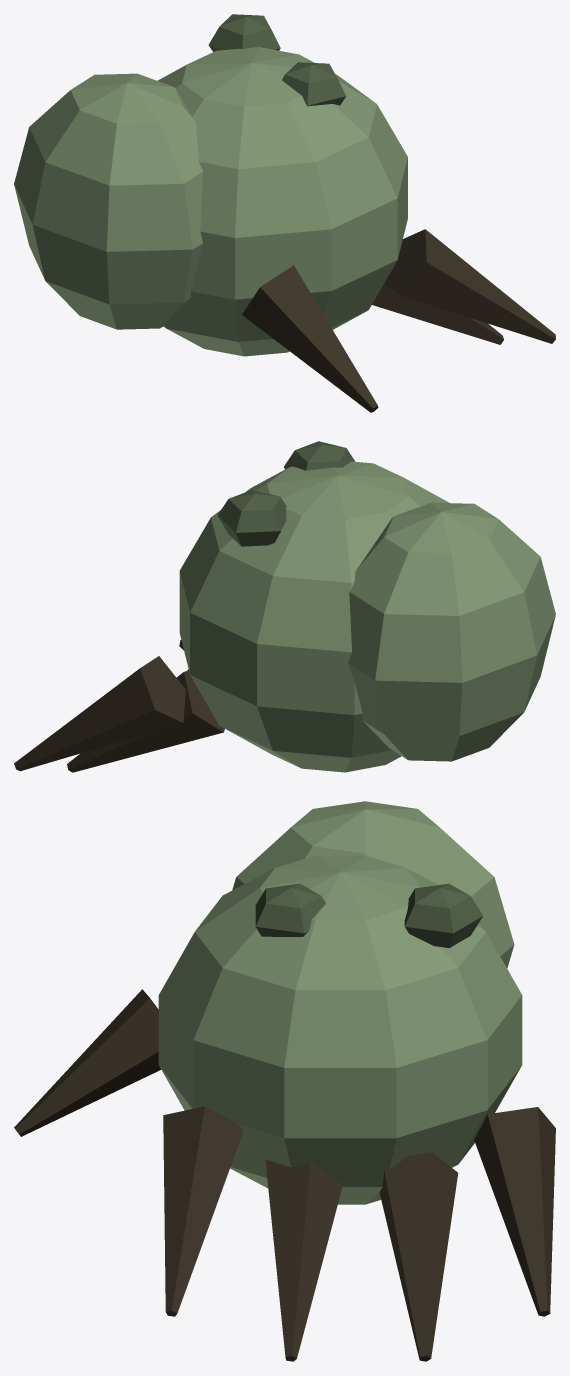
Rendered from troll_fist_l.glb.
3 views of the same model, one above another, from view 1: azimuth 30°, elevation 25°; view 2: azimuth 150°, elevation 25°; view 3: azimuth 270°, elevation 25° (orthographic). The views are drawn at different scales.
Visible parts, largest first — view 1: troll_fist_l; view 2: troll_fist_l; view 3: troll_fist_l.
Boxes of the visible parts, x1,y1,x2,y2 form: troll_fist_l: (14,14,555,412); troll_fist_l: (14,441,555,772); troll_fist_l: (14,801,555,1361).
Size of the model in its own units: 0.4629 by 0.3289 by 0.4362.
